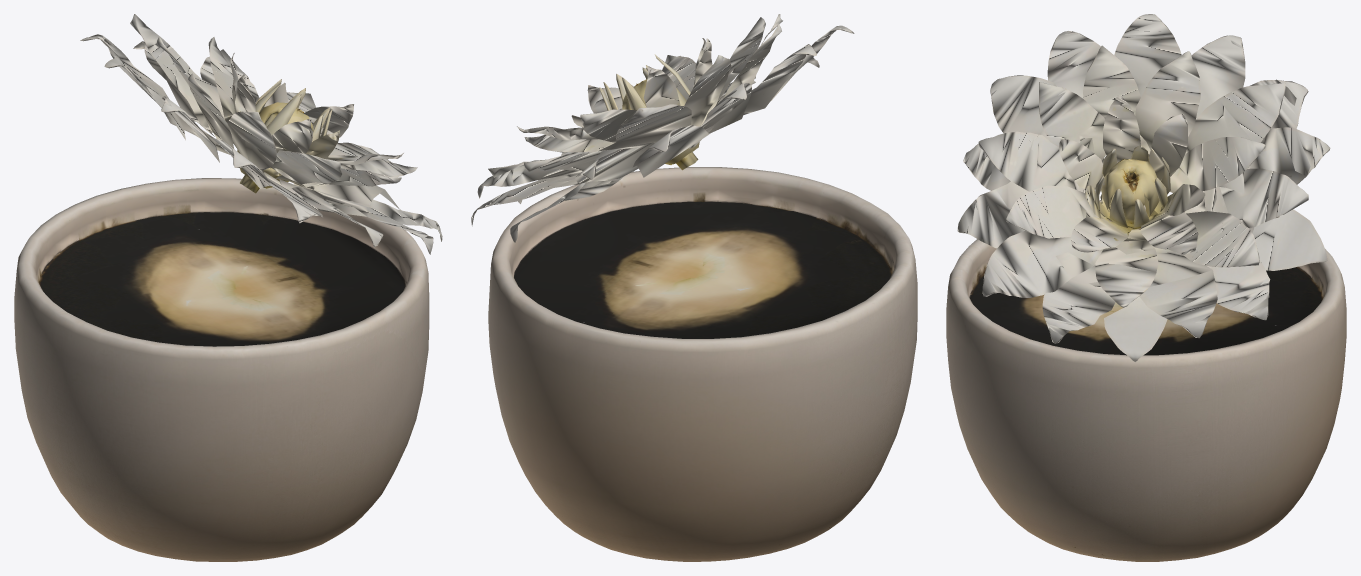
File: White+flower.fbx
3 renders of one model, left to right at view 1: azimuth 30°, elevation 25°; view 2: azimuth 150°, elevation 25°; view 3: azimuth 270°, elevation 25°, orthographic. The views are drawn at different scales.
Parts seen in each view (by area): view 1: meshes[0]; view 2: meshes[0]; view 3: meshes[0].
Boxes of the visible parts, x1,y1,x2,y2 form: meshes[0]: (14,14,442,561); meshes[0]: (471,14,917,561); meshes[0]: (946,14,1346,561).
Bounding box in the file's own units: 0.8262 × 0.998 × 0.8184.
